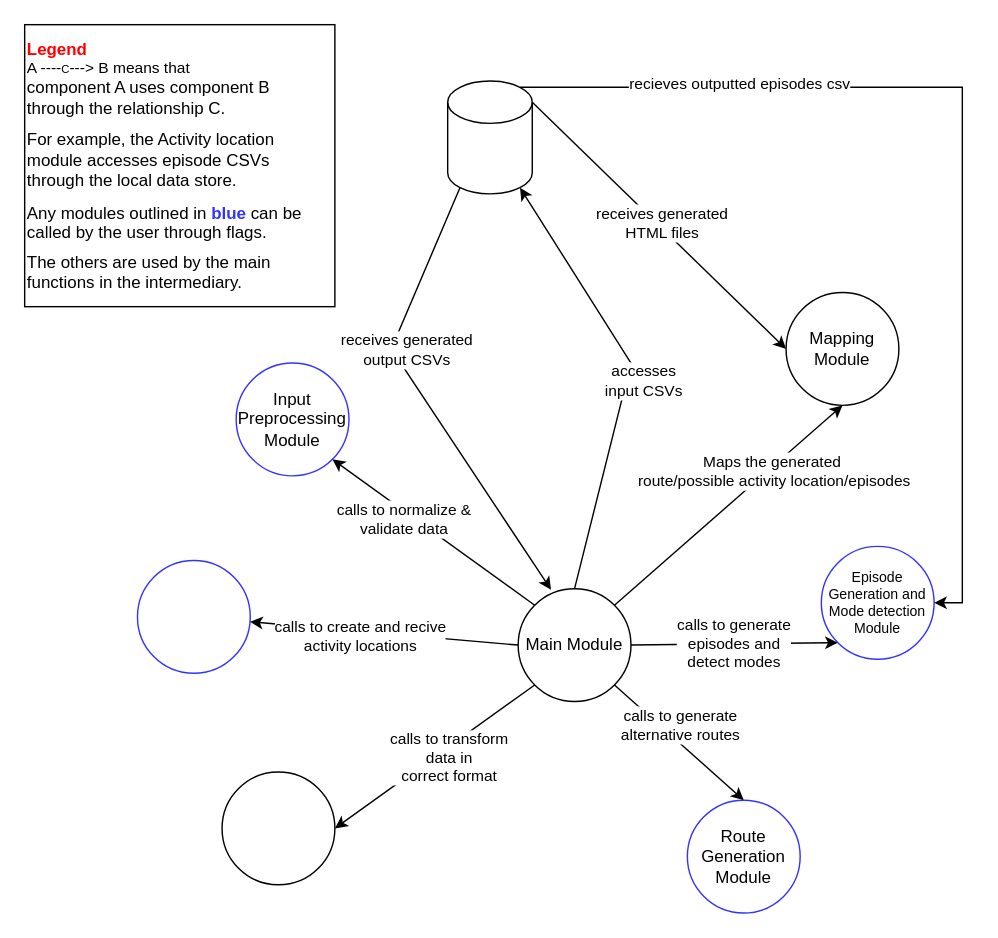
Image size: 998x938. Some labels were removed from this diagram. Here are the shapes that lost their labels. From the top down, the centre of each, then its label:
At point 489,137: "Local Data Store".
At point 193,616: "Activity Location Module".
At point 278,828: "Data Transformation Module".
